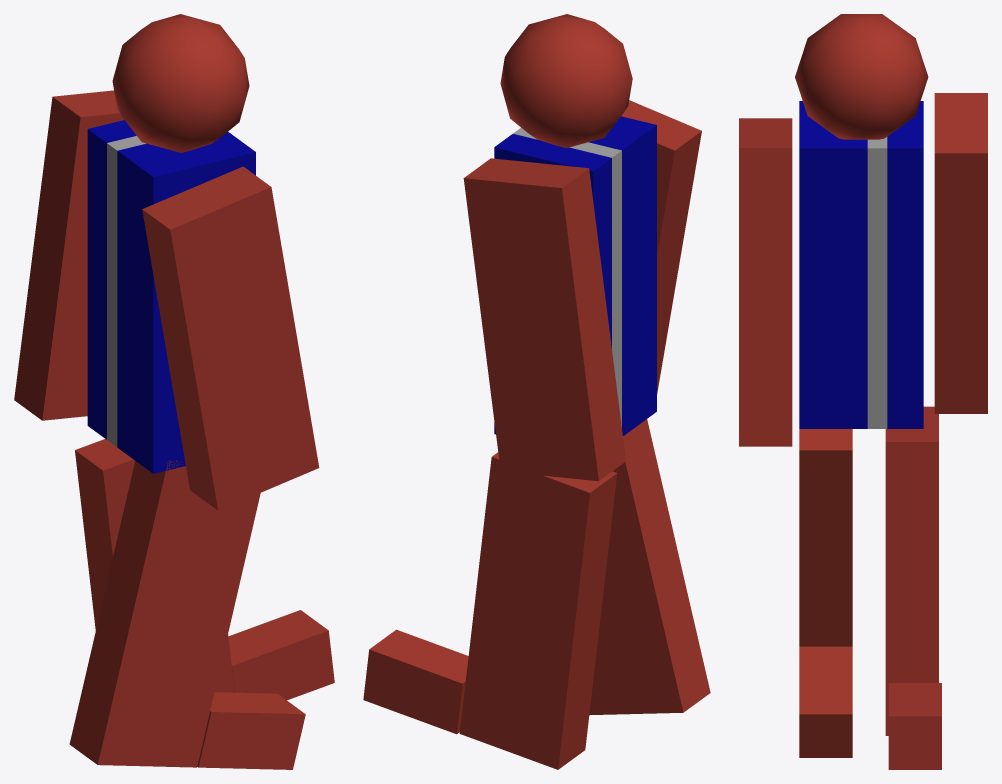
The model's file is player_000071.obj.
3 views of the same model, side by side, from view 1: azimuth 30°, elevation 25°; view 2: azimuth 150°, elevation 25°; view 3: azimuth 270°, elevation 25° (orthographic). The views are drawn at different scales.
Visible parts, largest first — view 1: Cube.005, Cube.001, Cube, Cube.006, Icosphere, Cube.004, Cube.003, Cube.002; view 2: Cube.006, Cube.002, Cube.001, Cube, Icosphere, Cube.004, Cube.005; view 3: Cube, Cube.005, Cube.006, Cube.002, Icosphere, Cube.001, Cube.003, Cube.004.
Part boxes in pixels (<box>): Cube.005: <box>142,166,319,510</box>; Cube.001: <box>69,460,260,767</box>; Cube: <box>87,120,255,473</box>; Cube.006: <box>14,90,124,420</box>; Icosphere: <box>112,14,249,152</box>; Cube.004: <box>228,610,334,700</box>; Cube.003: <box>197,692,305,769</box>; Cube.002: <box>75,439,234,692</box>; Cube.006: <box>463,158,625,481</box>; Cube.002: <box>459,452,617,769</box>; Cube.001: <box>589,419,710,715</box>; Cube: <box>494,116,656,435</box>; Icosphere: <box>500,14,632,148</box>; Cube.004: <box>363,629,468,734</box>; Cube.005: <box>621,100,701,393</box>; Cube: <box>799,101,923,428</box>; Cube.005: <box>739,118,792,446</box>; Cube.006: <box>934,93,987,413</box>; Cube.002: <box>885,406,938,735</box>; Icosphere: <box>795,14,928,139</box>; Cube.001: <box>799,429,852,646</box>; Cube.003: <box>799,646,852,757</box>; Cube.004: <box>888,683,941,769</box>.
Size of the model in its own units: 1.14 by 2.86 by 0.9137.
